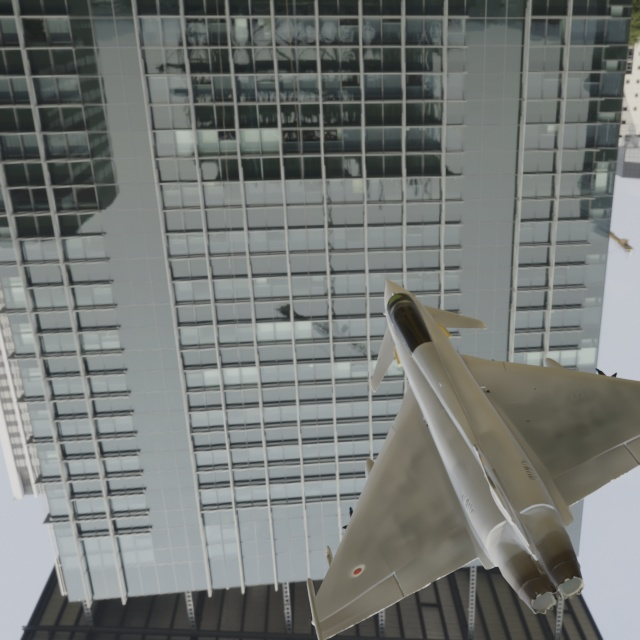eurofighter_typhoon_3d: (204, 118, 640, 640)
